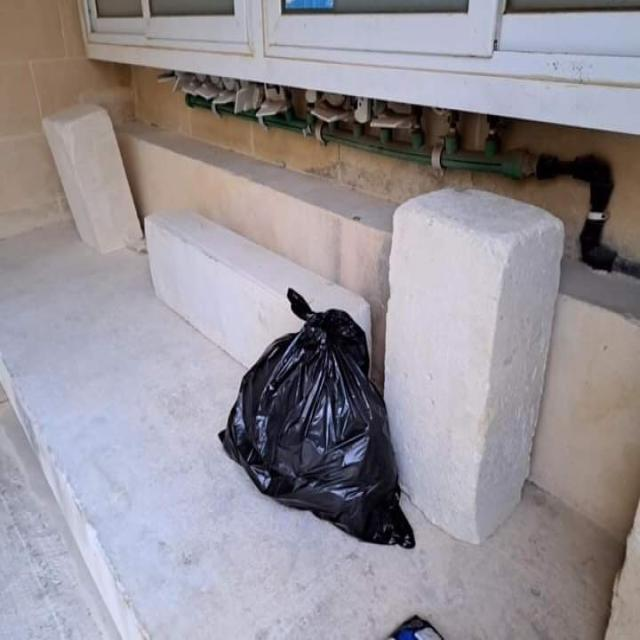Mixed Waste -Black Bag-: (219, 290, 417, 548)
